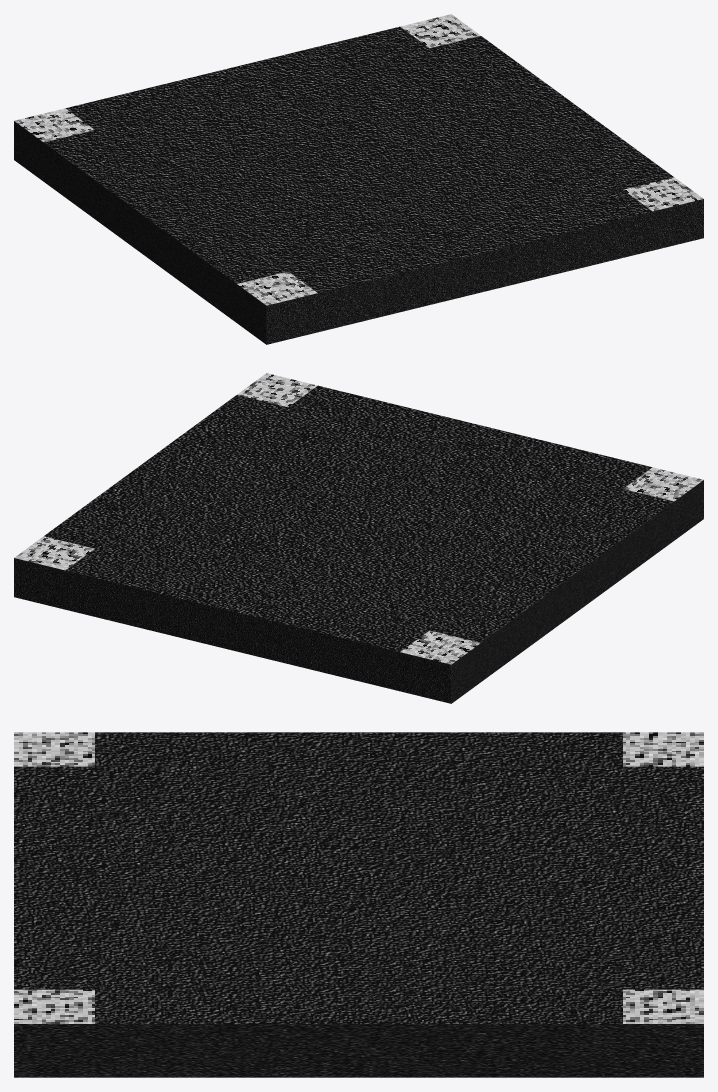
The model's file is road_zyuzi.FBX.
The picture shows the model from 3 angles, top to bottom: view 1: azimuth 30°, elevation 25°; view 2: azimuth 150°, elevation 25°; view 3: azimuth 270°, elevation 25°; orthographic projection. The views are drawn at different scales.
Parts seen in each view (by area): view 1: Box029; view 2: Box029; view 3: Box029.
Boxes of the visible parts, x1,y1,x2,y2 form: Box029: (14,14,703,344); Box029: (14,373,703,703); Box029: (14,732,703,1077).
Size of the model in its own units: 173 by 173 by 14.8.
Materials: 2 (2 with a texture image).
